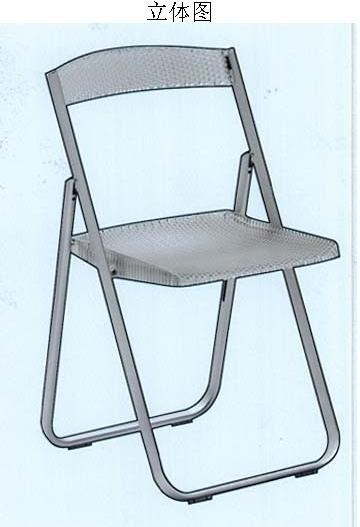obstacle: (41, 46, 339, 502)
